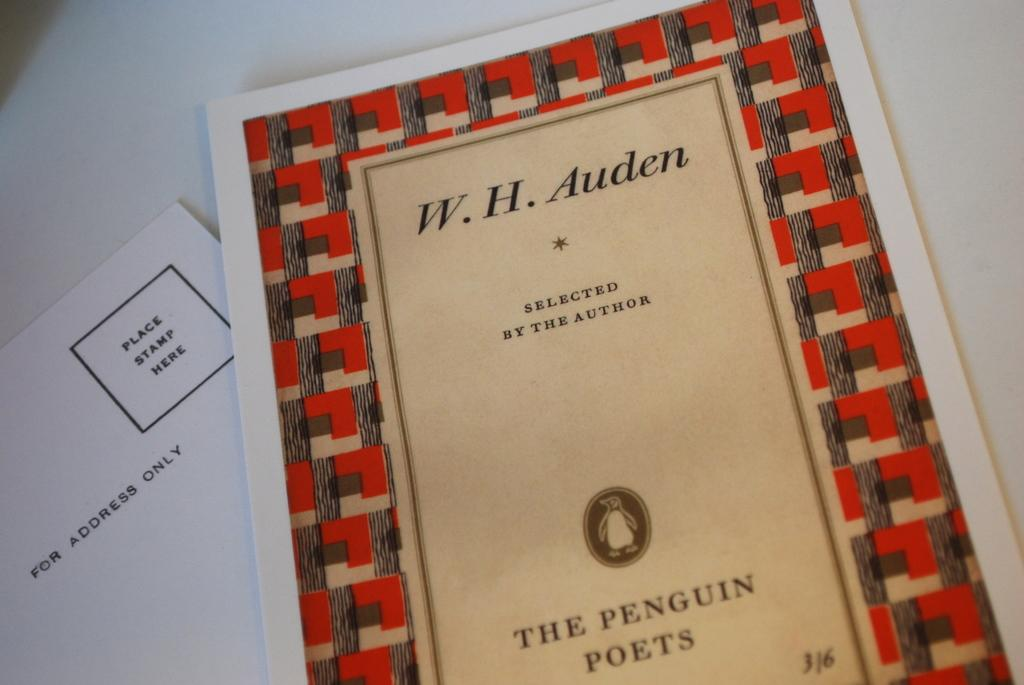Book: (203, 0, 1020, 683)
